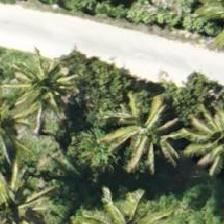coconut_tree: (108, 80, 198, 170), (0, 38, 88, 128), (177, 89, 223, 179), (0, 158, 54, 223)
